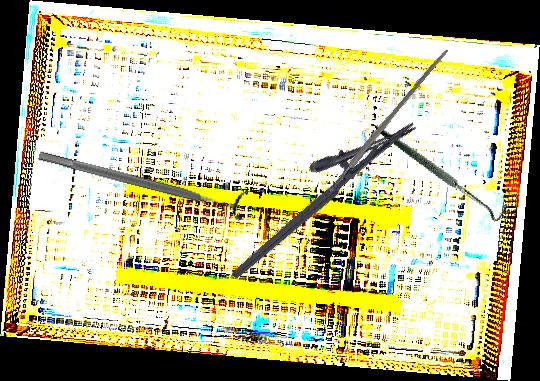Fixation Ring: (35, 138, 249, 224)
Hook Surgical: (374, 89, 511, 251)
Needle Holder: (209, 96, 419, 281)
Scalpel Handle: (325, 46, 451, 194)
